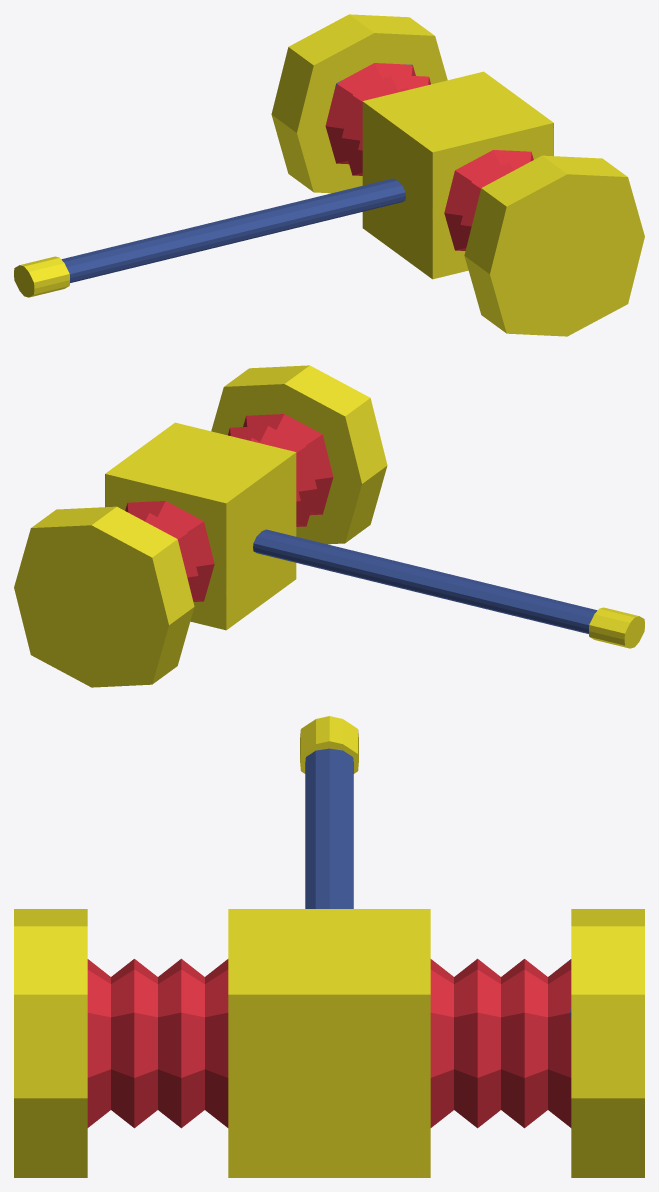
File: ToyHammer.fbx
The picture shows the model from 3 angles, top to bottom: view 1: azimuth 30°, elevation 25°; view 2: azimuth 150°, elevation 25°; view 3: azimuth 270°, elevation 25°; orthographic projection. The views are drawn at different scales.
Parts seen in each view (by area): view 1: ToyHammer; view 2: ToyHammer; view 3: ToyHammer.
Boxes of the visible parts, bbox=[...] form: ToyHammer: bbox=[14, 14, 644, 336]; ToyHammer: bbox=[14, 365, 644, 687]; ToyHammer: bbox=[14, 716, 644, 1177].
Bounding box in the file's own units: 140 × 42.44 × 103.
1 material, 1 textured.
